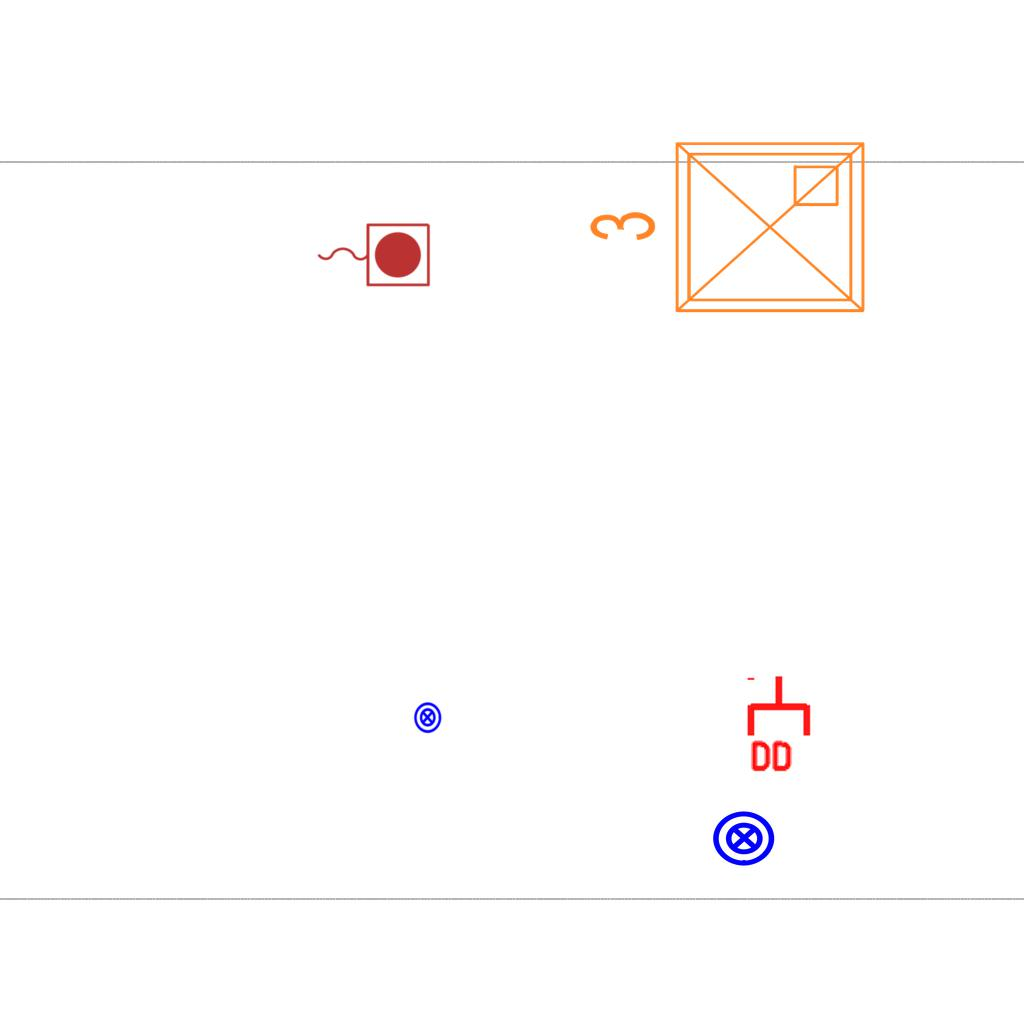Datenanschluss_zweifach: (746, 673, 815, 776)
Einbaudownlights_LED_Konferenzraeume: (579, 127, 879, 335)
Taster_beleuchtet: (711, 805, 777, 871), (411, 701, 444, 734)
Zugtaster: (312, 218, 434, 290)
